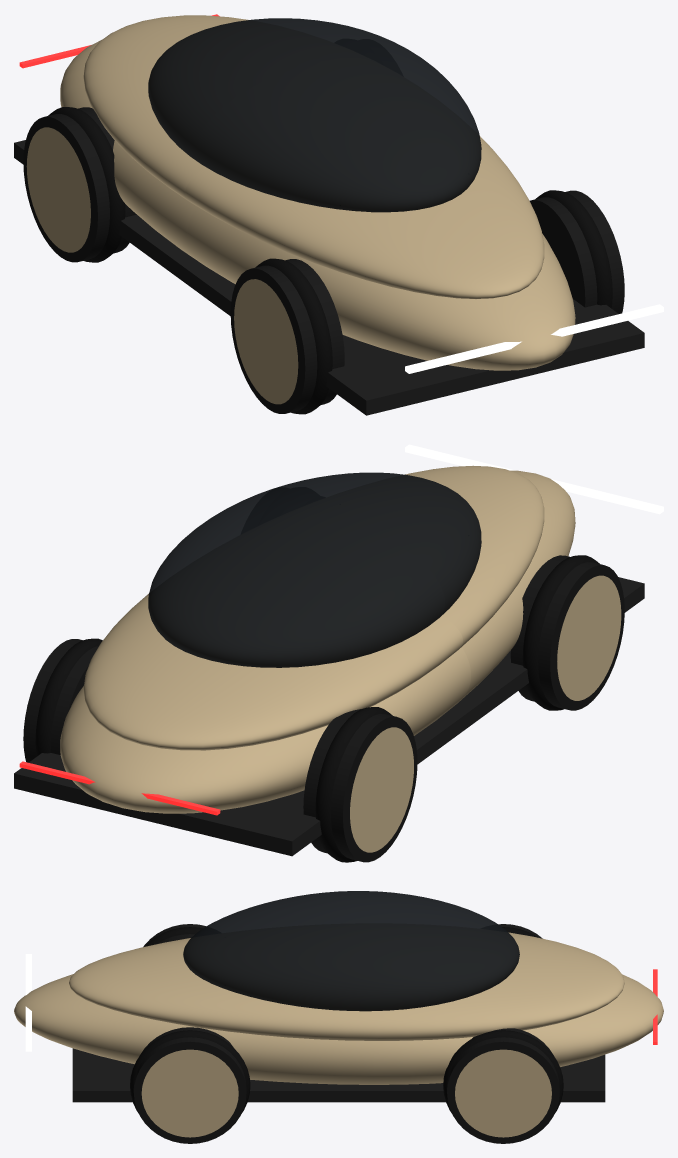
The model's file is cybercab.glb.
3 views of the same model, one above another, from view 1: azimuth 30°, elevation 25°; view 2: azimuth 150°, elevation 25°; view 3: azimuth 270°, elevation 25° (orthographic). The views are drawn at different scales.
Visible parts, largest first — view 1: Cybercab, Glass, Body; view 2: Cybercab, Glass, Body; view 3: Cybercab, Glass, Body.
Part boxes in pixels (box(x1,y1,x2,y2)): Cybercab: box(14, 14, 663, 415); Glass: box(148, 18, 481, 212); Body: box(60, 40, 575, 370); Cybercab: box(14, 444, 663, 862); Glass: box(148, 472, 481, 667); Body: box(60, 470, 575, 813); Cybercab: box(25, 924, 657, 1143); Glass: box(183, 891, 519, 1011); Body: box(14, 974, 663, 1084).
Bounding box in the file's own units: 1.8 × 1.25 × 4.15.
